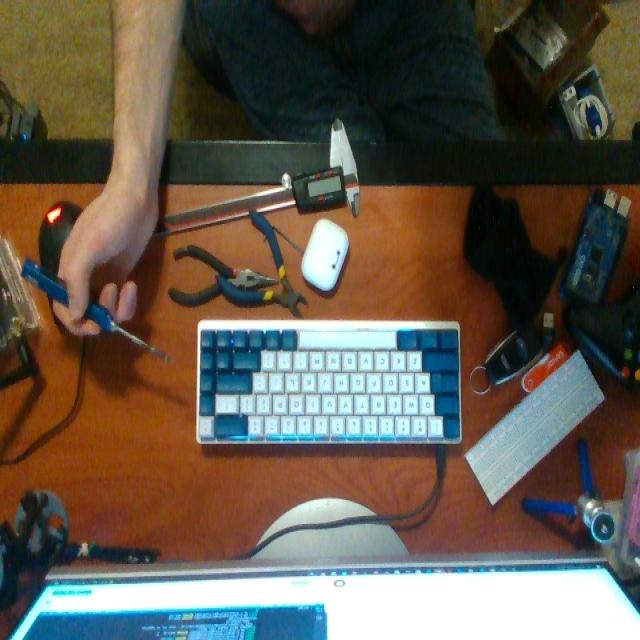keyboard: (196, 325, 460, 442)
